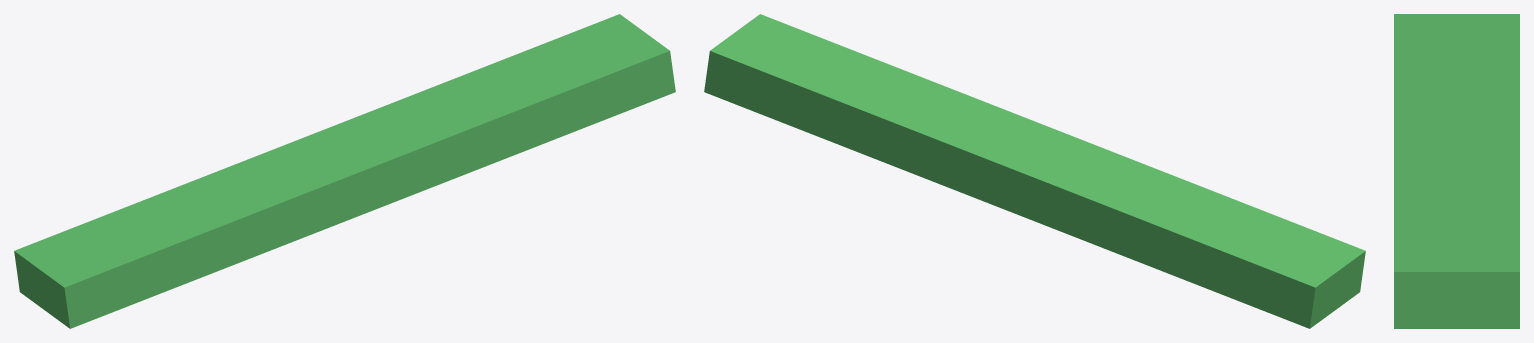
Rendered from fallen_column_walkable_collision.glb.
3 views of the same model, side by side, from view 1: azimuth 30°, elevation 25°; view 2: azimuth 150°, elevation 25°; view 3: azimuth 270°, elevation 25° (orthographic). The views are drawn at different scales.
Visible parts, largest first — view 1: fallen_column_walkable-col; view 2: fallen_column_walkable-col; view 3: fallen_column_walkable-col.
Part boxes in pixels (x1,y1,x2,y2): fallen_column_walkable-col: [14, 14, 675, 328]; fallen_column_walkable-col: [704, 14, 1365, 328]; fallen_column_walkable-col: [1394, 14, 1519, 328].
Size of the model in its own units: 5.05 by 1.04 by 0.72.
